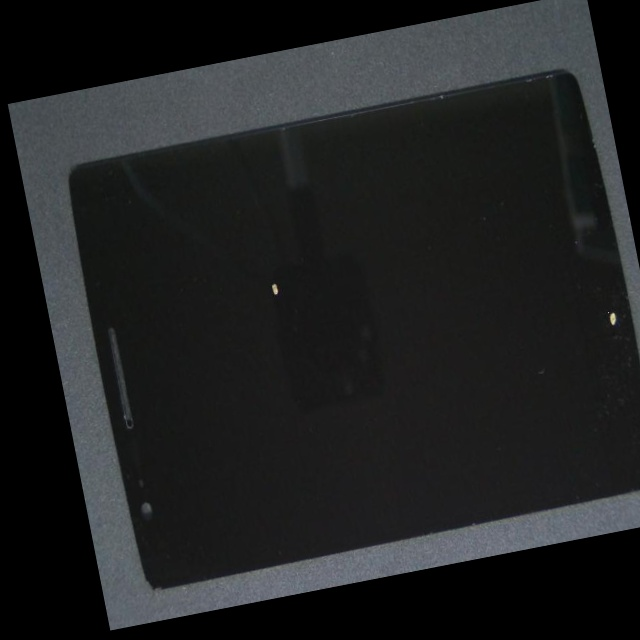stain: (317, 118, 640, 509), (139, 124, 391, 419)
